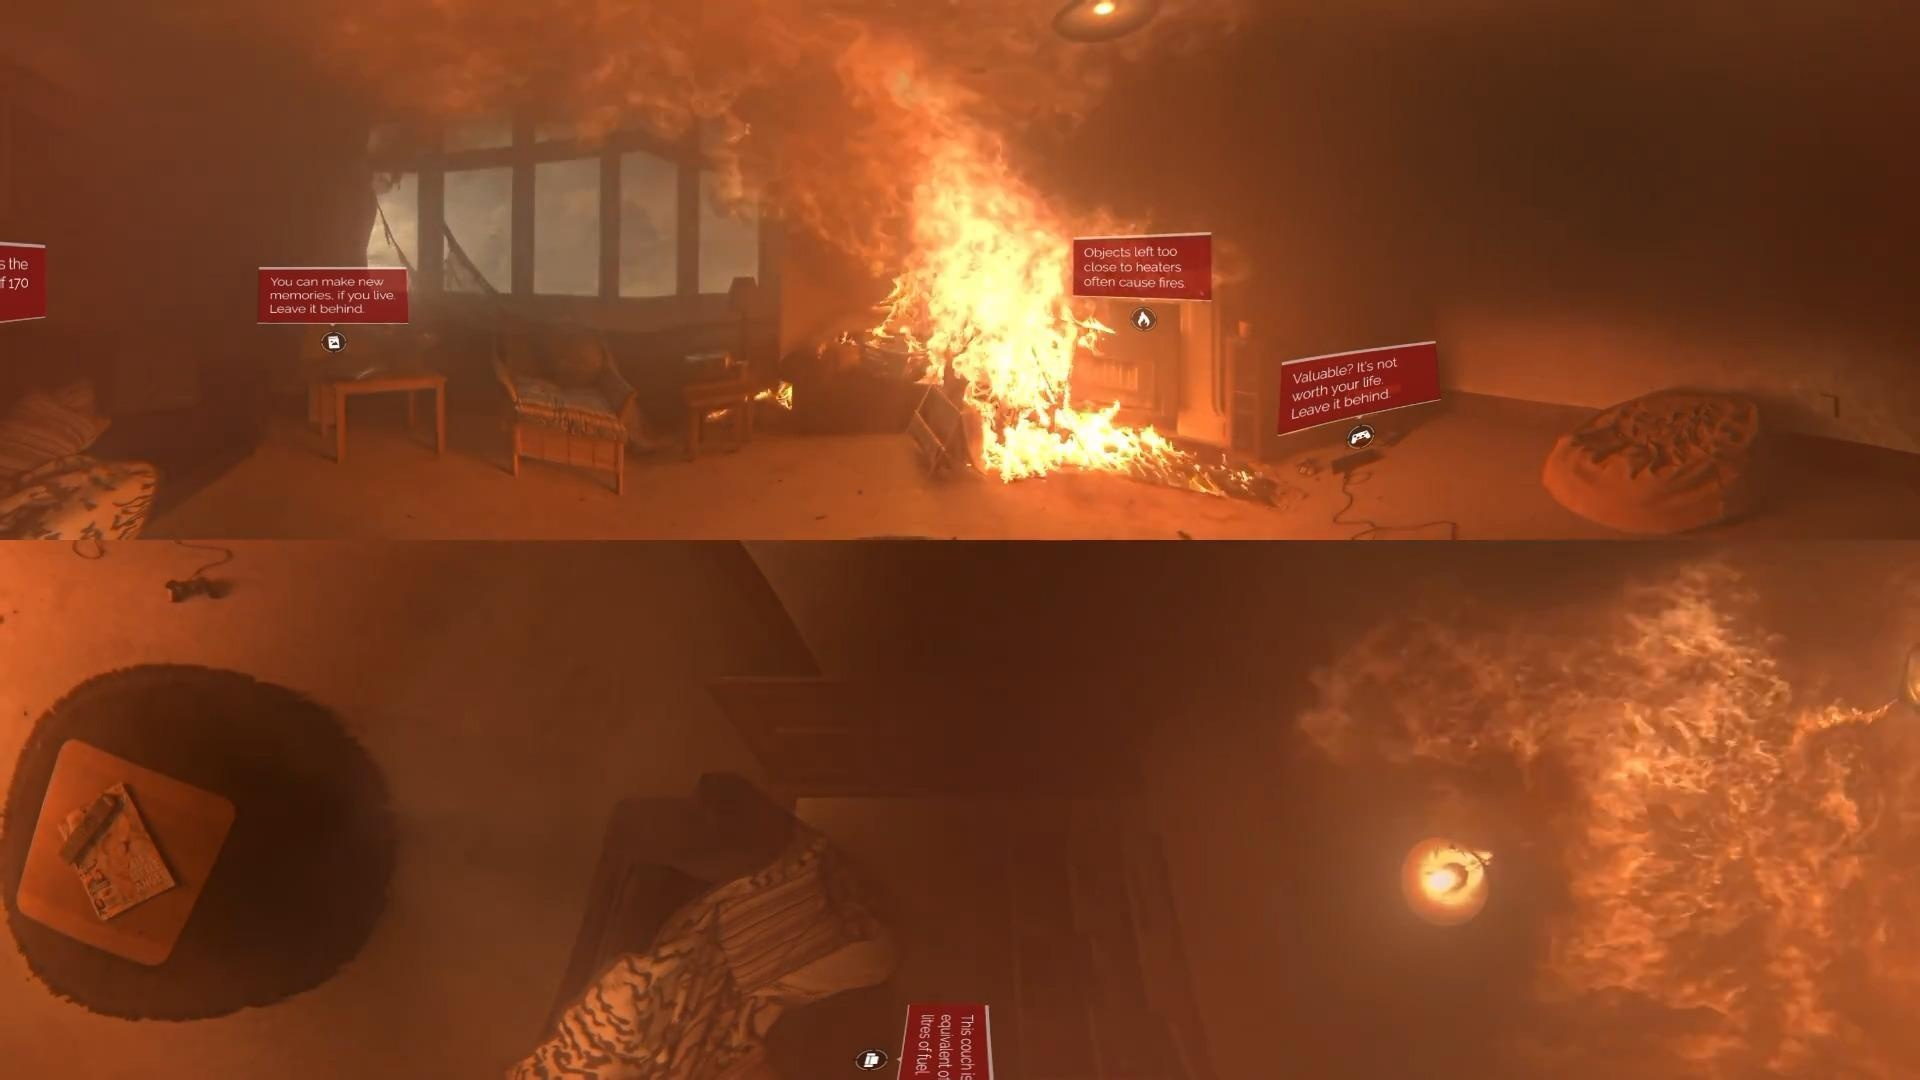fire: (812, 1, 1147, 484)
